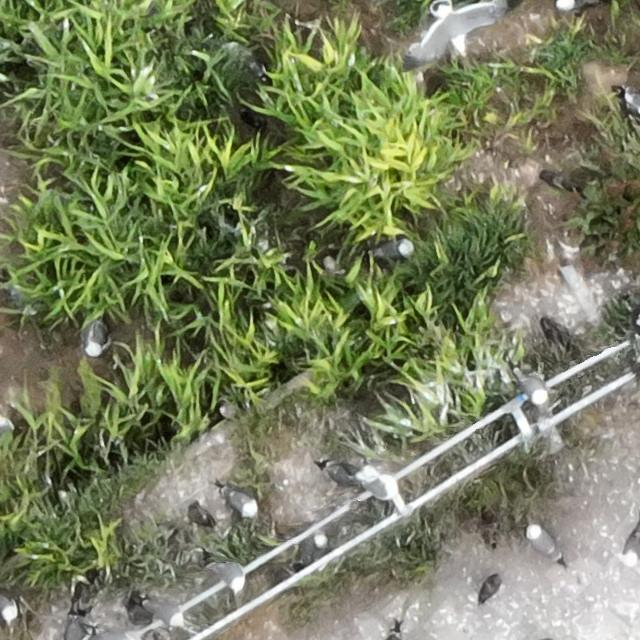F: (417, 1, 489, 52)
umineko: (211, 559, 248, 590), (143, 600, 185, 627), (296, 534, 335, 560), (516, 372, 545, 402), (322, 464, 364, 484), (530, 528, 557, 558), (86, 319, 108, 355), (226, 491, 256, 517), (373, 240, 410, 260), (621, 526, 638, 568), (374, 479, 399, 502), (1, 591, 19, 620), (624, 91, 639, 114), (558, 0, 595, 9), (0, 415, 11, 432)
